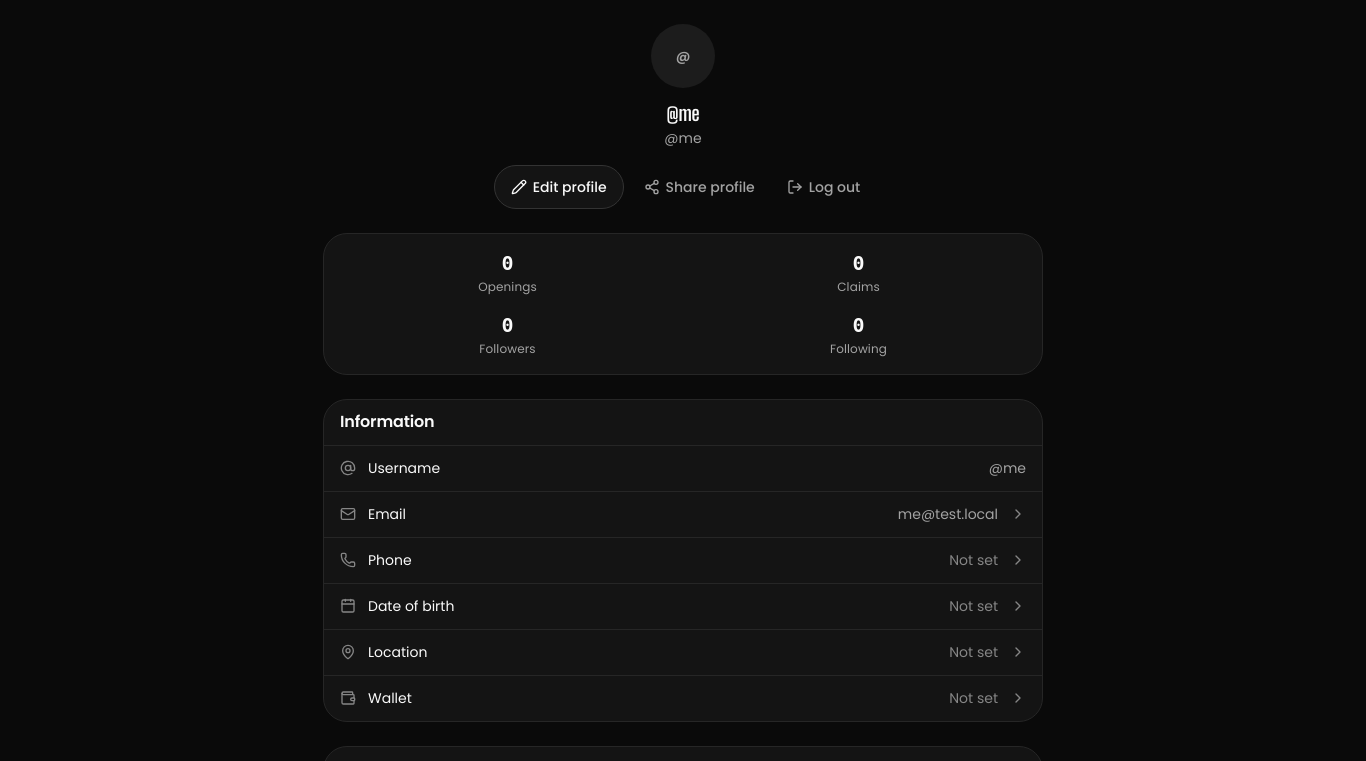
Test case: Profile — field-specific edit (Phase 5n-B) › blocks an invalid email inline and sends no request
Click the button "Email me@test.local". click: (387, 514)
box: top-left (324, 491), bottom-right (1042, 537)
(page scrolled)
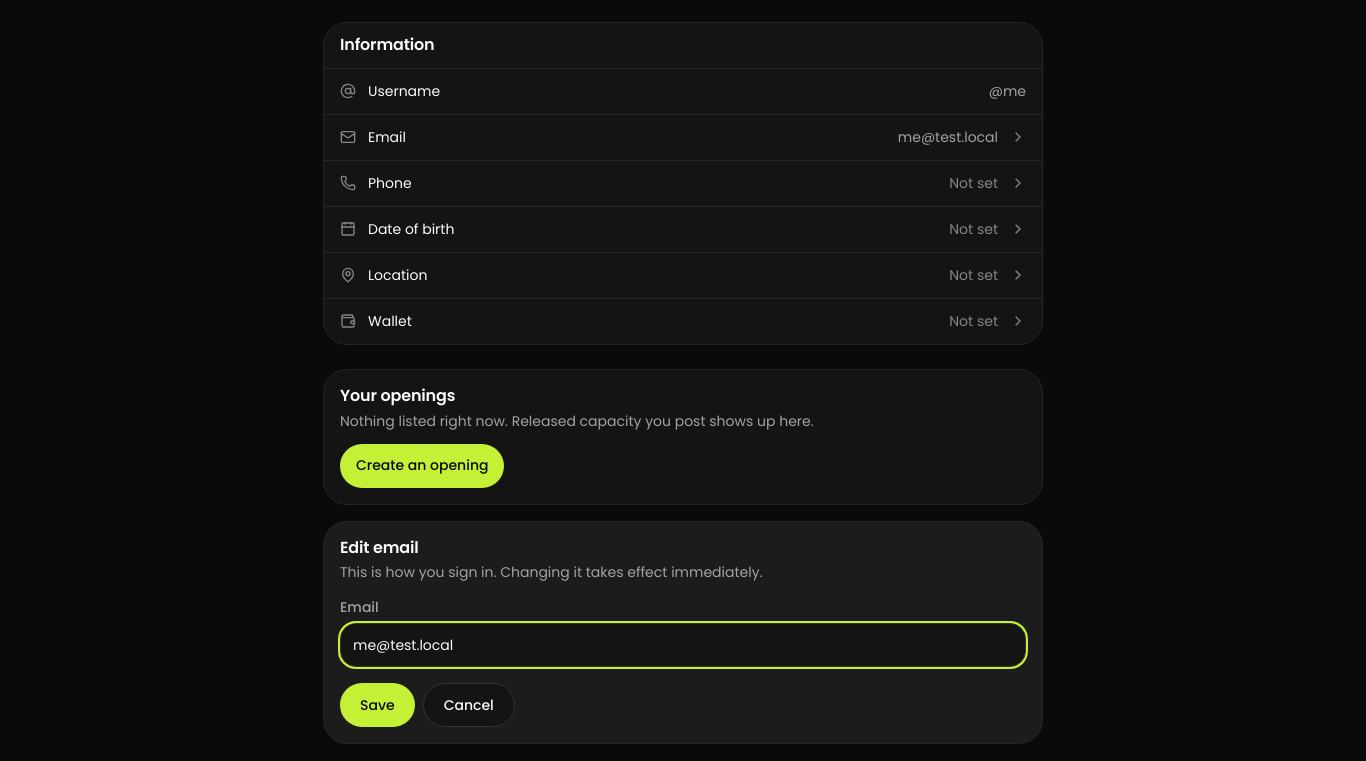
Replace the text in the field labelled "Email" with "not-an-email". click: (683, 645)
box: top-left (340, 623), bottom-right (1026, 667)
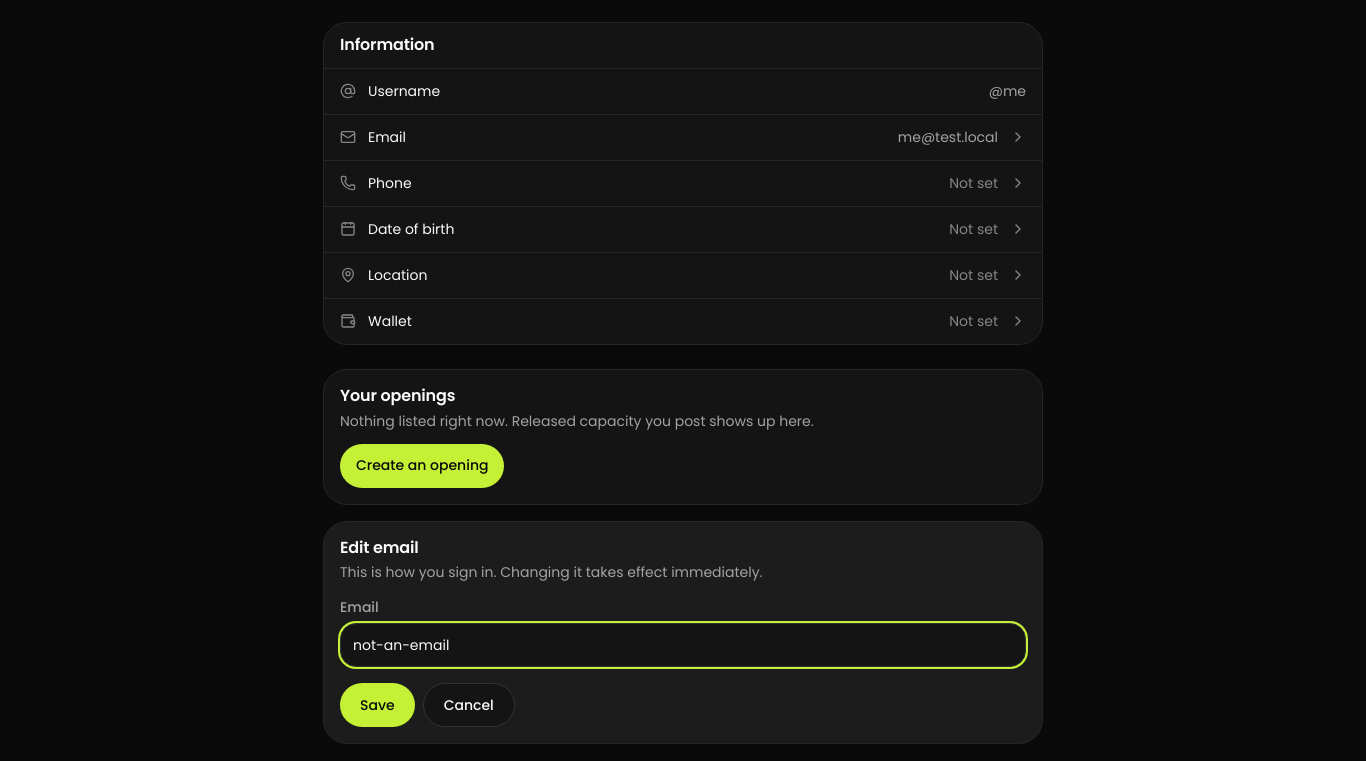
Click the button "Save". click: (377, 705)
box: top-left (340, 683), bottom-right (415, 727)
(page scrolled)
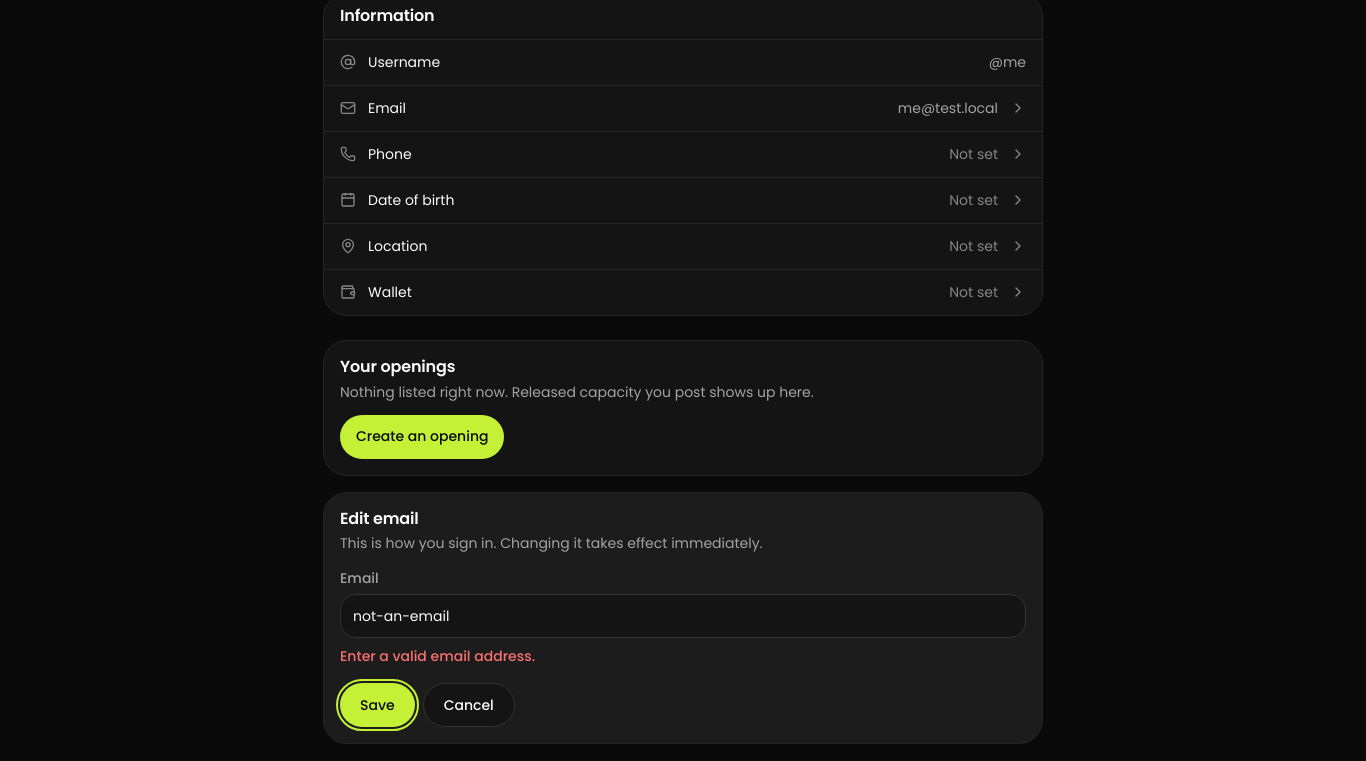
Expected: the dialog is shown, top-left (323, 492), bottom-right (1043, 744)
Expected: the text "Enter a valid email address." is shown, top-left (340, 646), bottom-right (535, 666)
